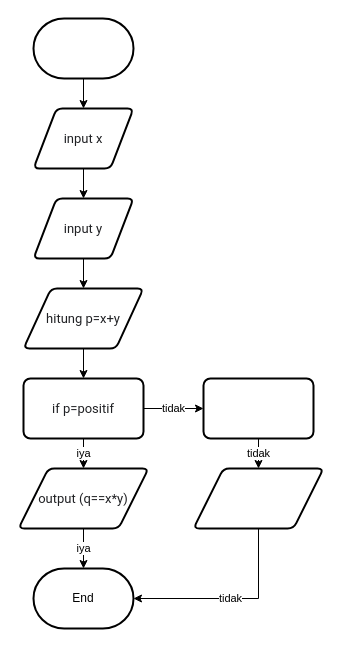
The diagram is 341 pixels wide and 646 high, and some of its shapes have lost their labels. Here are the shapes that lost their labels. From the top down, the box of each, then its label:
(32, 17, 134, 79): Start
(202, 377, 314, 439): else p==negatif
(192, 467, 324, 529): output (q==x/y)
